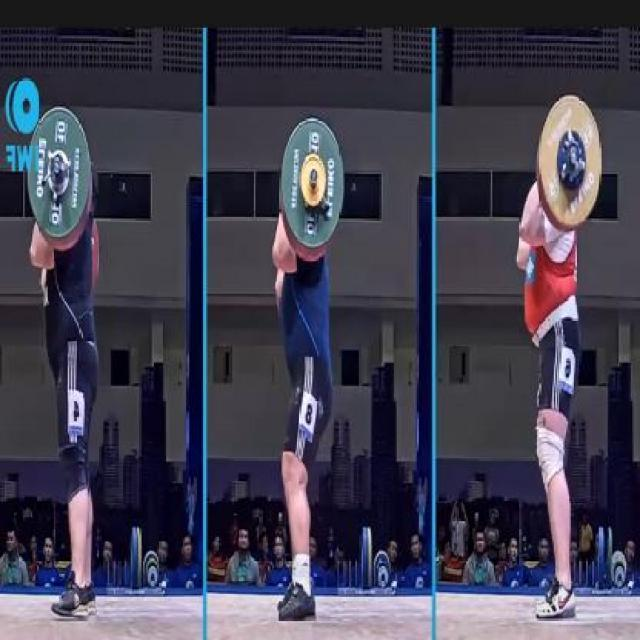Barbell: (306, 162, 320, 190), (49, 154, 63, 180), (567, 144, 581, 168)
